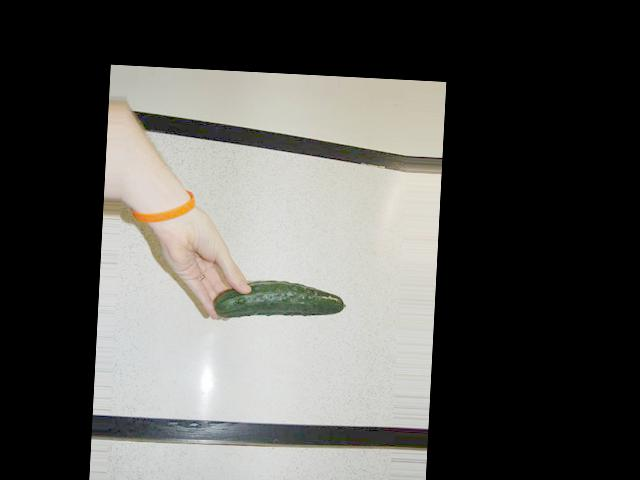cucumber: (212, 279, 347, 324)
